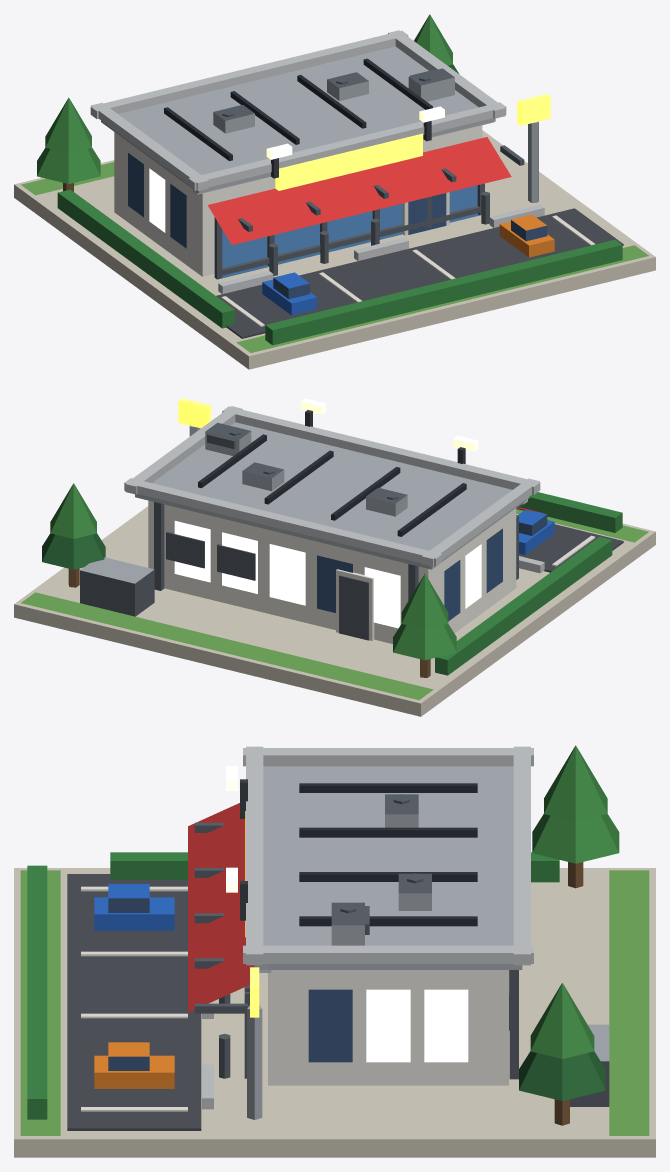
3 renders of one model, top to bottom at view 1: azimuth 30°, elevation 25°; view 2: azimuth 150°, elevation 25°; view 3: azimuth 270°, elevation 25°, orthographic. The views are drawn at different scales.
Parts seen in each view (by area): view 1: b11; view 2: b11; view 3: b11.
Boxes of the visible parts, x1,y1,x2,y2 form: b11: [14, 14, 655, 369]; b11: [14, 398, 655, 716]; b11: [14, 745, 655, 1157].
Size of the model in its own units: 0.99 by 0.308 by 0.96.
